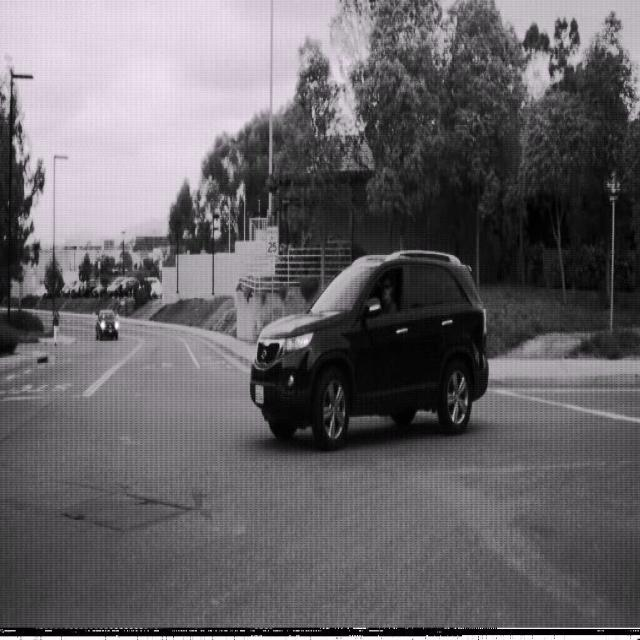speedLimit25: (265, 225, 279, 258)
